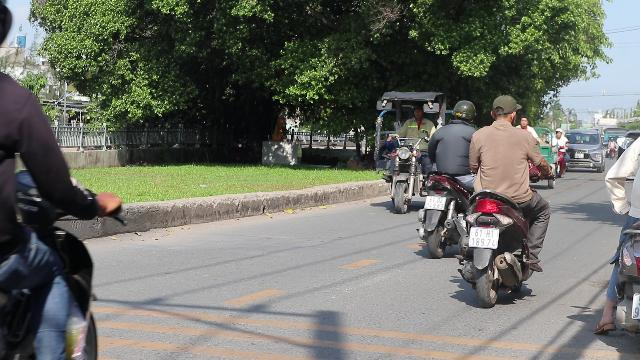helmet: (450, 99, 476, 123)
licenseplate: (469, 228, 499, 248), (424, 196, 446, 210)
motorcyclist: (458, 94, 554, 307), (415, 98, 479, 258)
nohelmet: (488, 94, 520, 124)
